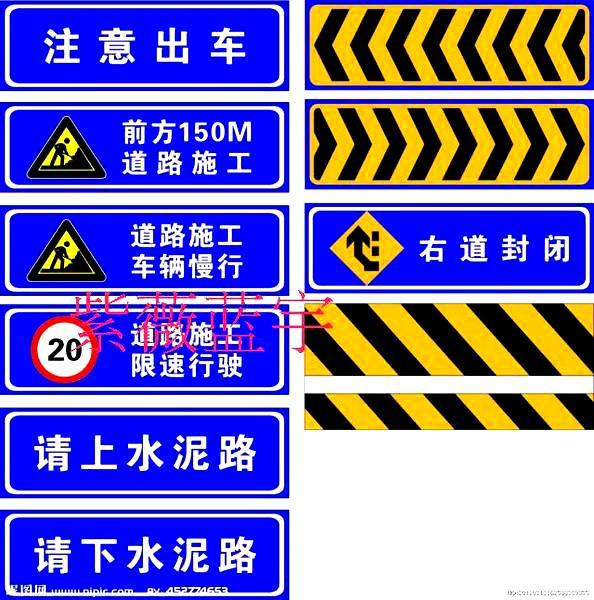sign: (309, 2, 590, 87), (2, 208, 286, 292), (3, 4, 283, 87), (307, 102, 589, 184), (308, 206, 589, 288), (2, 107, 283, 187), (309, 302, 590, 376)
